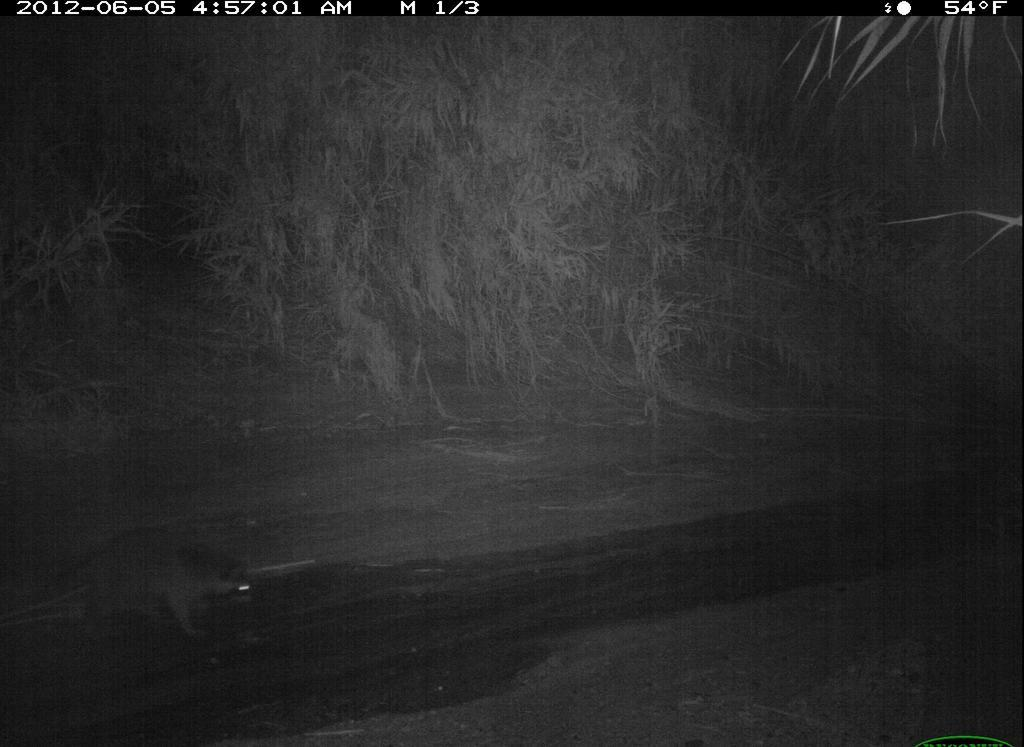raccoon: (25, 515, 264, 655)
